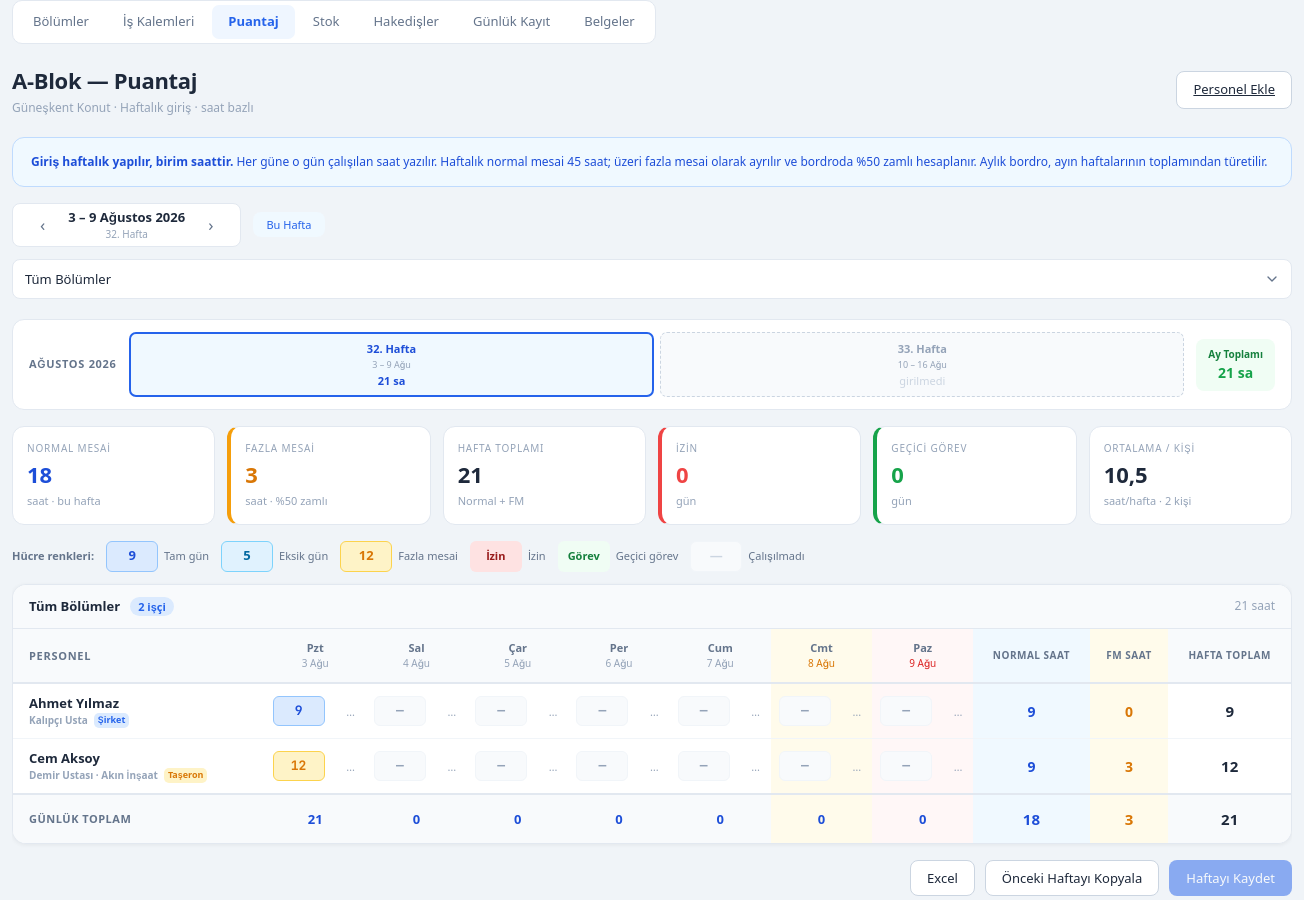
Test: SiteTimesheetView · hücre düzenleme › geçersiz saat REDDEDİLİR ve gerekçe hücrede kalır
Type "25" into the 2nd field with placeholder "—" at coordinates (501, 711), box [475,696,527,726]
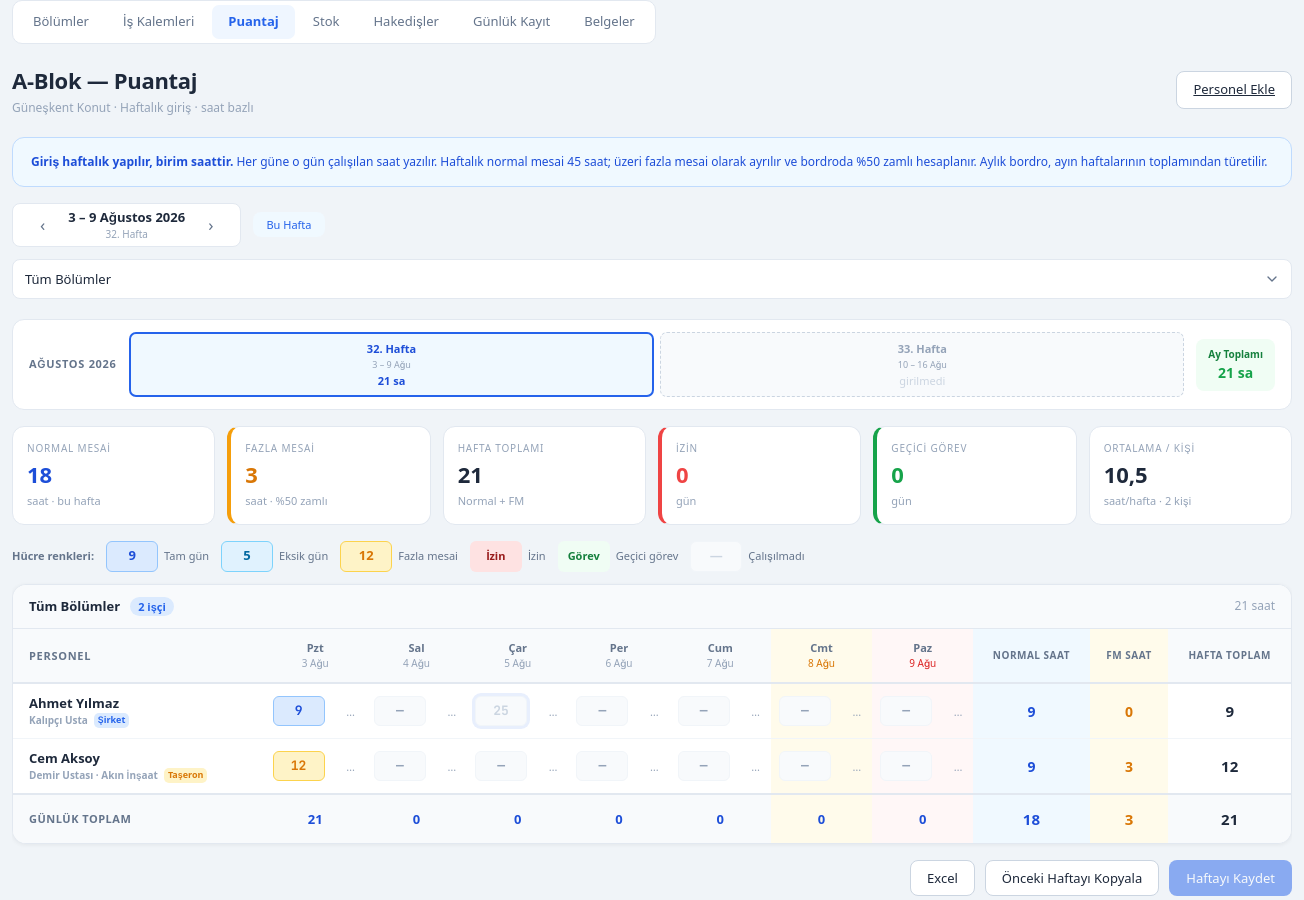
Press Tab
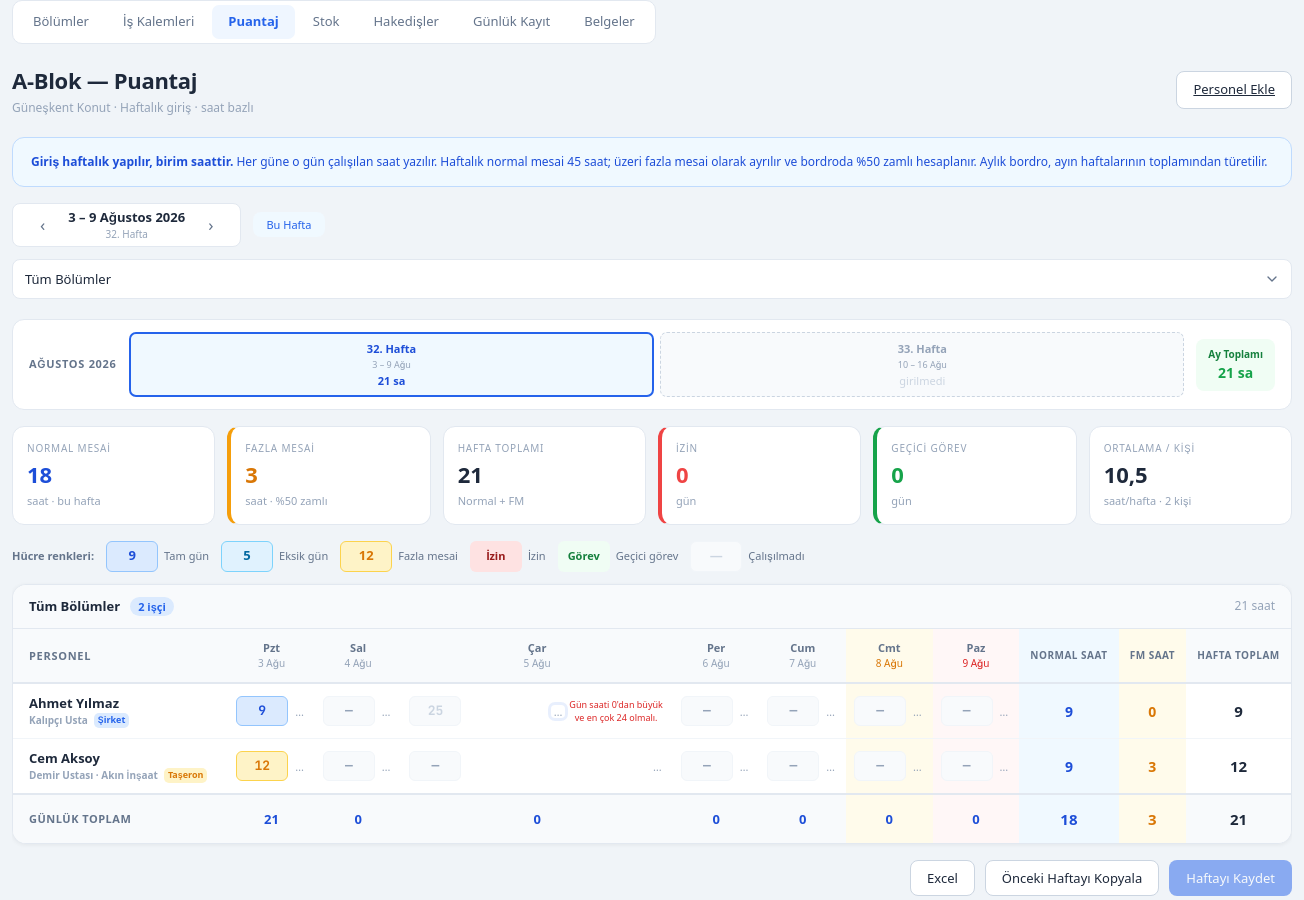
Expected: the text "Gün saati 0'dan büyük ve en çok 24 olmalı." is shown, [567,698,665,724]
